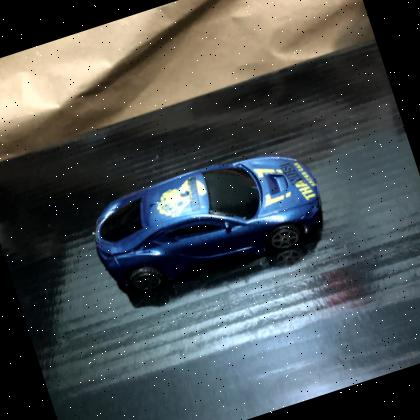Car: (94, 155, 323, 290)
